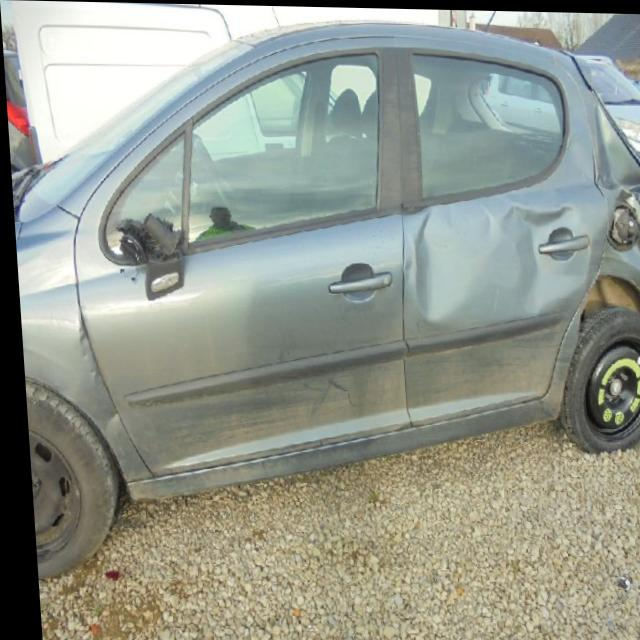porte-avant: (117, 43, 413, 490)
